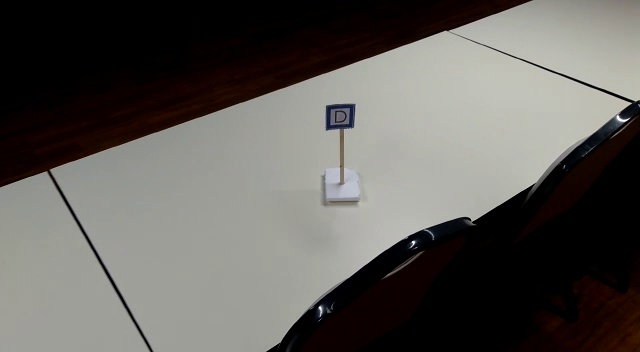durak: (326, 105, 355, 130)
